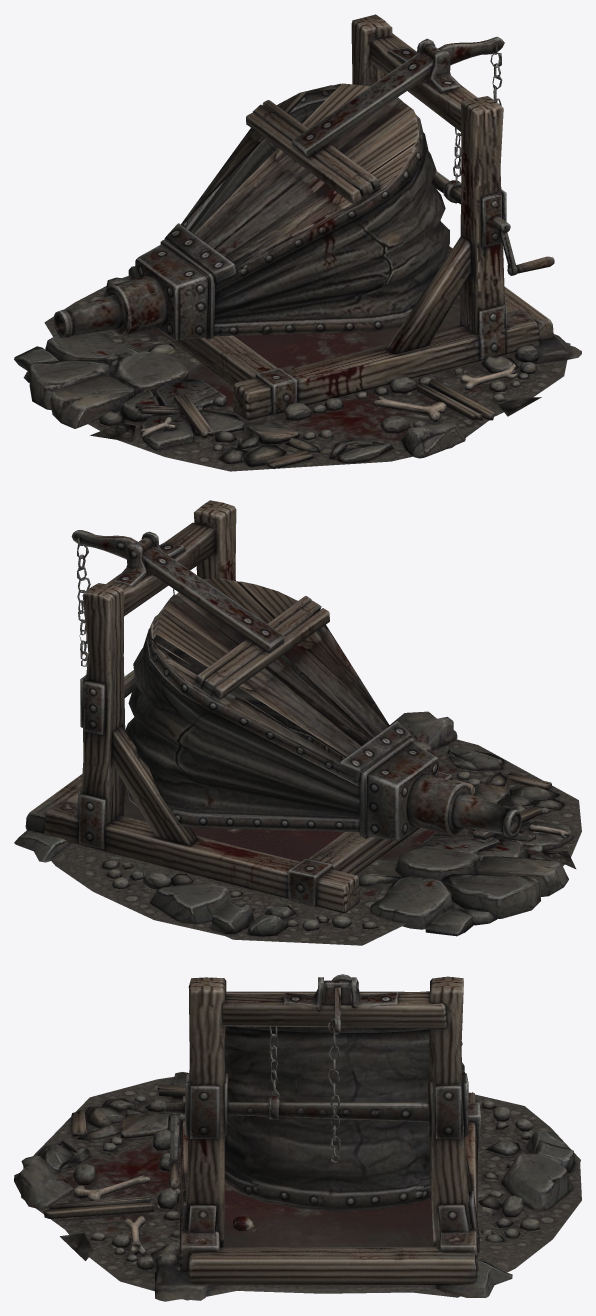
Rendered from bellows.glb.
3 renders of one model, top to bottom at view 1: azimuth 30°, elevation 25°; view 2: azimuth 150°, elevation 25°; view 3: azimuth 270°, elevation 25°, orthographic. The views are drawn at different scales.
Parts seen in each view (by area): view 1: Mesh_0; view 2: Mesh_0; view 3: Mesh_0.
Boxes of the visible parts, x1=… form: Mesh_0: x1=14, y1=14, x2=581, y2=471; Mesh_0: x1=14, y1=500, x2=581, y2=945; Mesh_0: x1=14, y1=974, x2=581, y2=1301.
Size of the model in its own units: 0.9561 by 0.5215 by 0.9297.
Materials: 1 (1 with a texture image).
